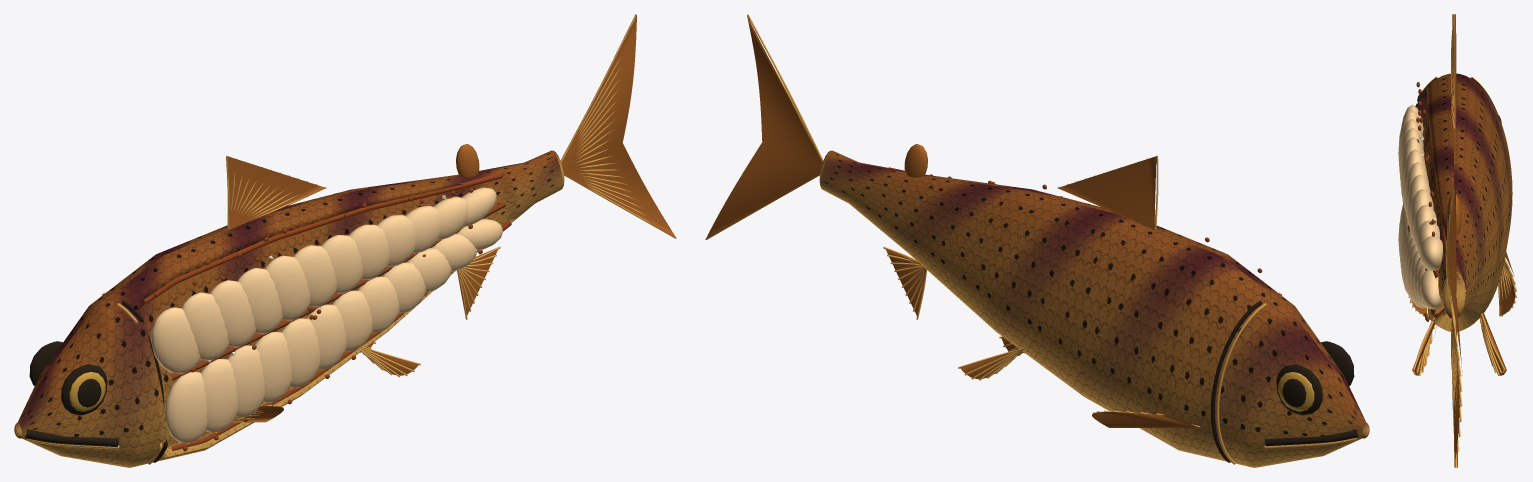
File: seared_trout.glb
3 views of the same model, side by side, from view 1: azimuth 30°, elevation 25°; view 2: azimuth 150°, elevation 25°; view 3: azimuth 270°, elevation 25° (orthographic). The views are drawn at different scales.
Visible parts, largest first — view 1: exposed cooked muscle, scaled skin with continuous back and belly, ribbed fin membrane, fin rays and lip rim, raised char plates, mouth, gill creases and pupils; view 2: scaled skin with continuous back and belly, ribbed fin membrane, mouth, gill creases and pupils, fin rays and lip rim; view 3: scaled skin with continuous back and belly, exposed cooked muscle, ribbed fin membrane, fin rays and lip rim, raised char plates, mouth, gill creases and pupils.
Boxes of the visible parts, box(x1,y1,x2,y2) form: exposed cooked muscle: box(151, 187, 502, 443); scaled skin with continuous back and belly: box(14, 150, 564, 467); ribbed fin membrane: box(227, 14, 676, 421); fin rays and lip rim: box(26, 14, 676, 464); raised char plates: box(144, 172, 511, 450); mouth, gill creases and pupils: box(25, 300, 167, 462); scaled skin with continuous back and belly: box(819, 150, 1369, 467); ribbed fin membrane: box(705, 15, 1199, 427); mouth, gill creases and pupils: box(1211, 300, 1359, 462); fin rays and lip rim: box(705, 14, 1357, 464); scaled skin with continuous back and belly: box(1402, 73, 1512, 331); exposed cooked muscle: box(1398, 104, 1444, 309); ribbed fin membrane: box(1412, 14, 1514, 467); fin rays and lip rim: box(1408, 14, 1517, 467); raised char plates: box(1408, 82, 1446, 321); mouth, gill creases and pupils: box(1415, 77, 1501, 127).
Bounding box in the file's own units: 0.4939 × 0.2335 × 0.0706.
Materials: 8 (1 with a texture image).
